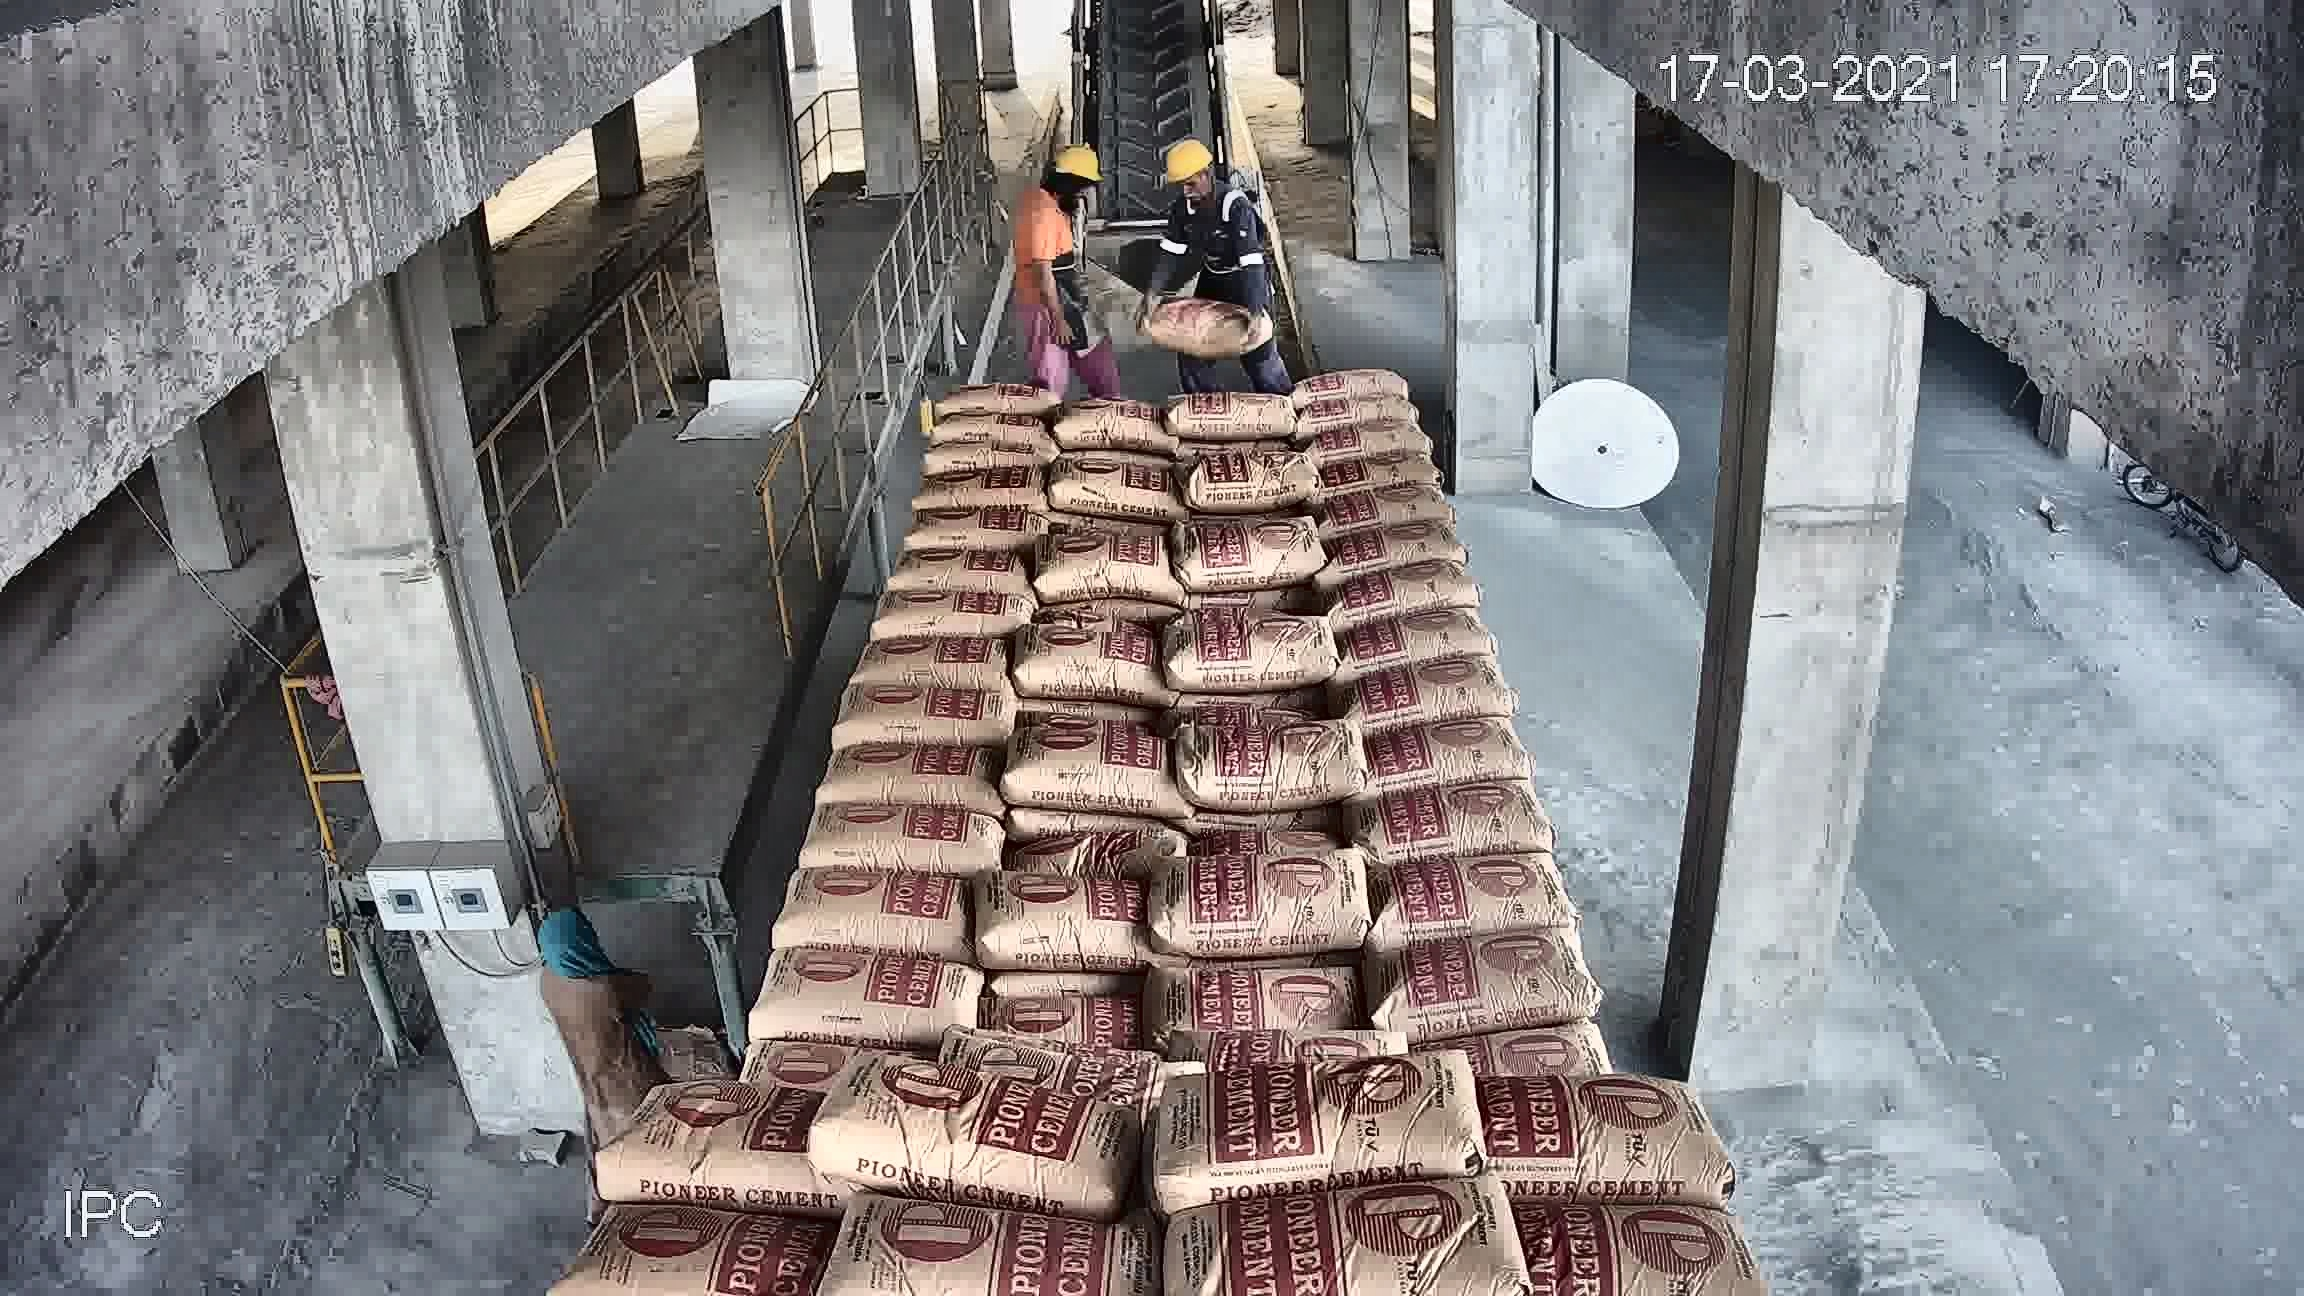bag: (1087, 533, 1239, 707)
bag_h: (1147, 1041, 1495, 1217), (1163, 1147, 1506, 1296), (1136, 934, 1443, 1071), (832, 1074, 1130, 1206), (824, 1184, 1195, 1287), (642, 946, 894, 1093), (1472, 1079, 1733, 1215), (1449, 954, 1688, 1097), (585, 1086, 813, 1215), (881, 953, 1131, 1070), (1510, 1214, 1787, 1296), (1147, 855, 1380, 946), (551, 1209, 805, 1290), (1449, 839, 1568, 935), (1143, 782, 1291, 858), (790, 796, 902, 877), (809, 750, 945, 817), (766, 877, 889, 949), (1163, 725, 1302, 788), (836, 665, 937, 745), (1480, 779, 1544, 850), (853, 619, 923, 679), (1309, 316, 1378, 353)
belt: (989, 36, 1313, 576)
